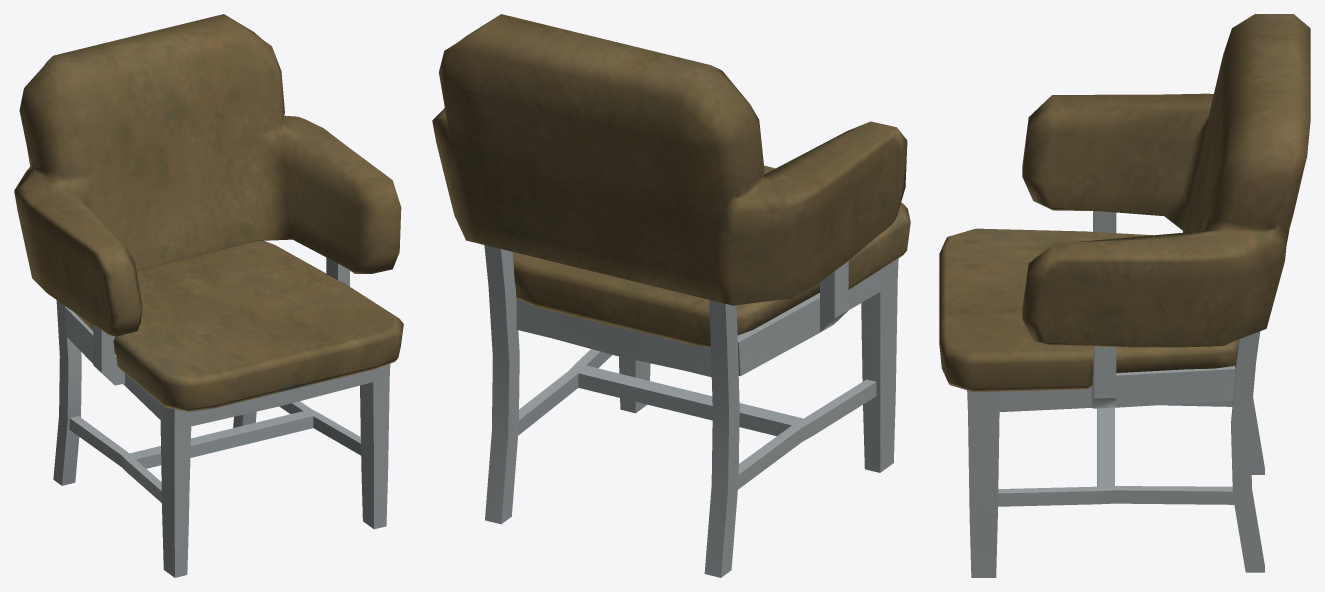
File: chair1.fbx
The picture shows the model from 3 angles, left to right: view 1: azimuth 30°, elevation 25°; view 2: azimuth 150°, elevation 25°; view 3: azimuth 270°, elevation 25°; orthographic projection. The views are drawn at different scales.
Parts seen in each view (by area): view 1: polySurface63; view 2: polySurface63; view 3: polySurface63.
Boxes of the visible parts, box(x1,y1,x2,y2) form: polySurface63: box(14, 14, 403, 577); polySurface63: box(432, 14, 910, 577); polySurface63: box(939, 14, 1310, 577).
Bounding box in the file's own units: 99.03 × 131 × 95.37.
